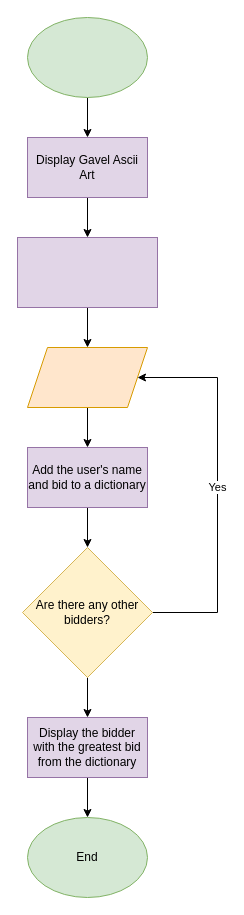
This 244x915 diagram has some shape labels left out. The shapes that lost their labels are listed below. From the top down, each one's centre as x and y in pixels, then its label:
the point at 87,57: Start
the point at 87,272: Welcome the user to the program, "Welcome to the secret auction program
the point at 87,377: User Enters their Name and Bid
